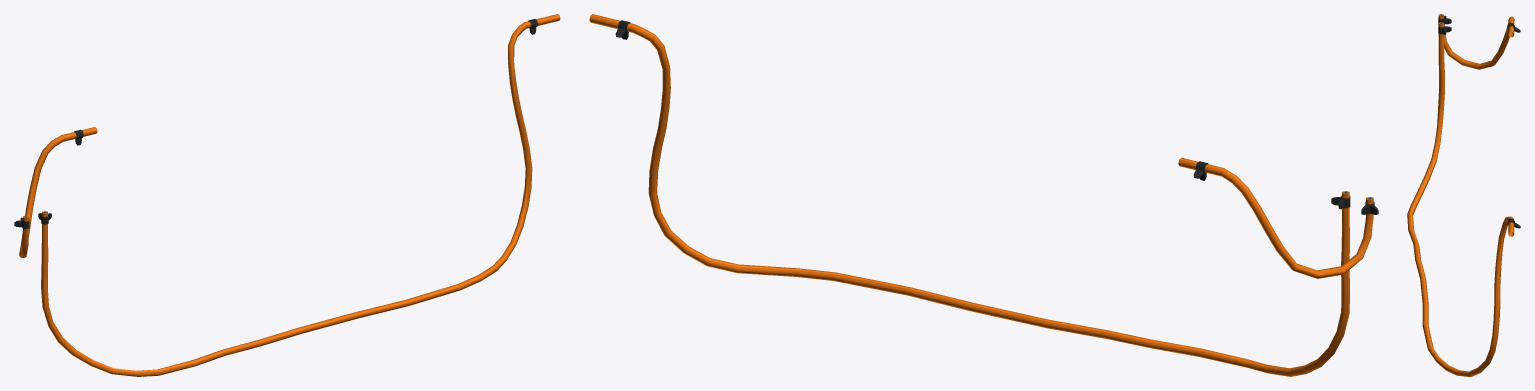
Rendered from jsf_GasRange_19d.fbx.
3 views of the same model, side by side, from view 1: azimuth 30°, elevation 25°; view 2: azimuth 150°, elevation 25°; view 3: azimuth 270°, elevation 25° (orthographic). The views are drawn at different scales.
Parts seen in each view (by area): view 1: GasHose; view 2: GasHose; view 3: GasHose.
Boxes of the visible parts, left/top/right/bottom form: GasHose: left=14, top=14, right=560, bottom=376; GasHose: left=589, top=14, right=1378, bottom=376; GasHose: left=1407, top=14, right=1520, bottom=376.
Size of the model in its own units: 171 by 58.47 by 32.78.
